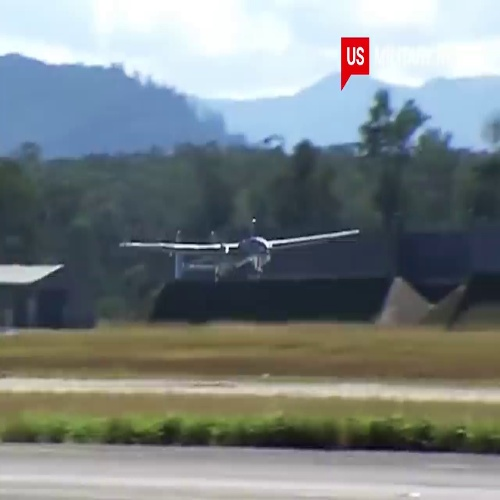uav: (116, 216, 361, 280)
